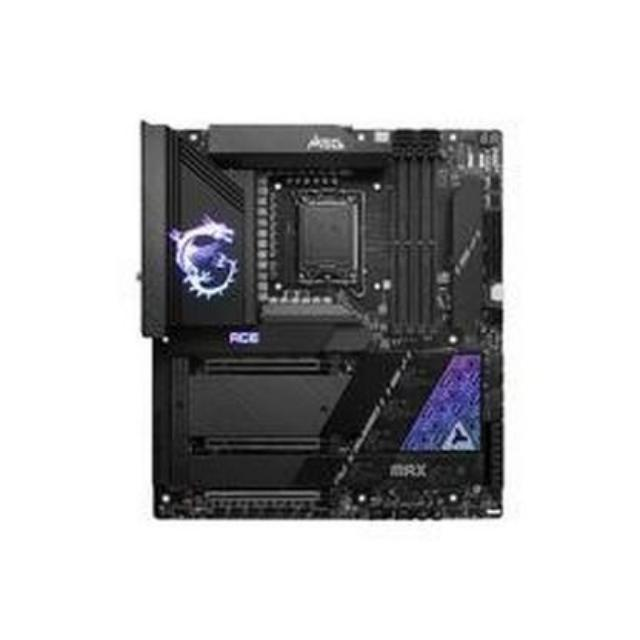Mainboard: (135, 112, 513, 528)
